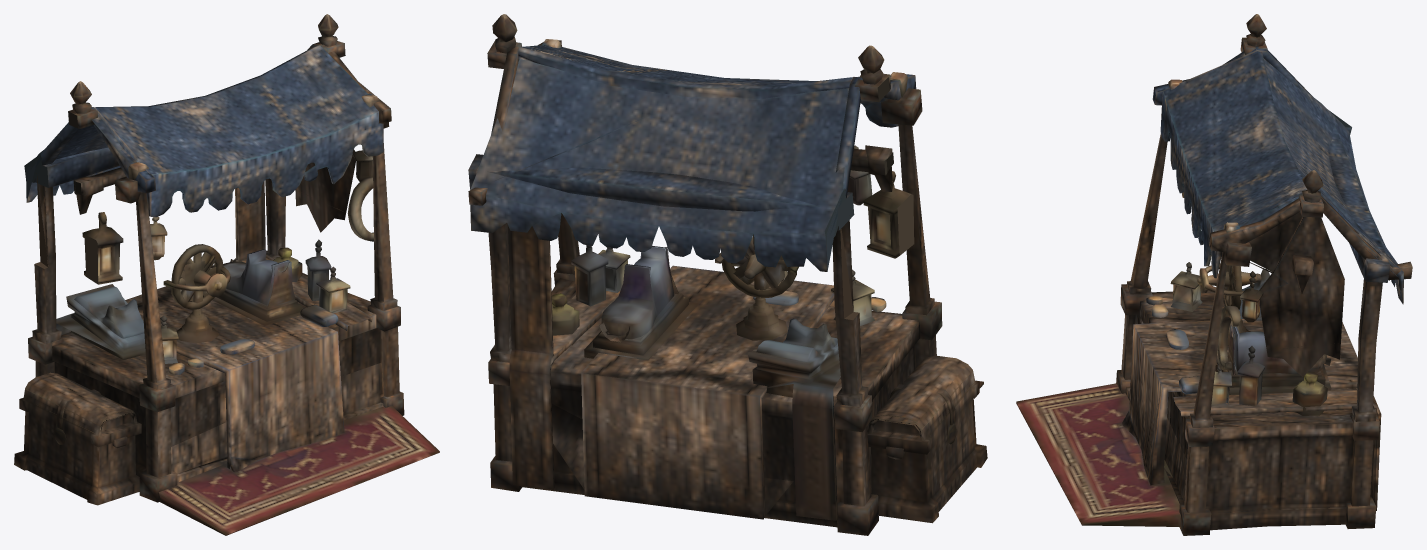
File: cosmic.glb
The picture shows the model from 3 angles, left to right: view 1: azimuth 30°, elevation 25°; view 2: azimuth 150°, elevation 25°; view 3: azimuth 270°, elevation 25°; orthographic projection. The views are drawn at different scales.
Visible parts, largest first — view 1: market_stall_cosmic; view 2: market_stall_cosmic; view 3: market_stall_cosmic.
Boxes of the visible parts, x1,y1,x2,y2 form: market_stall_cosmic: (14,14,439,535); market_stall_cosmic: (468,14,987,535); market_stall_cosmic: (1016,14,1412,535).
Bounding box in the file's own units: 3 × 3.14 × 2.9.
1 material, 1 textured.
